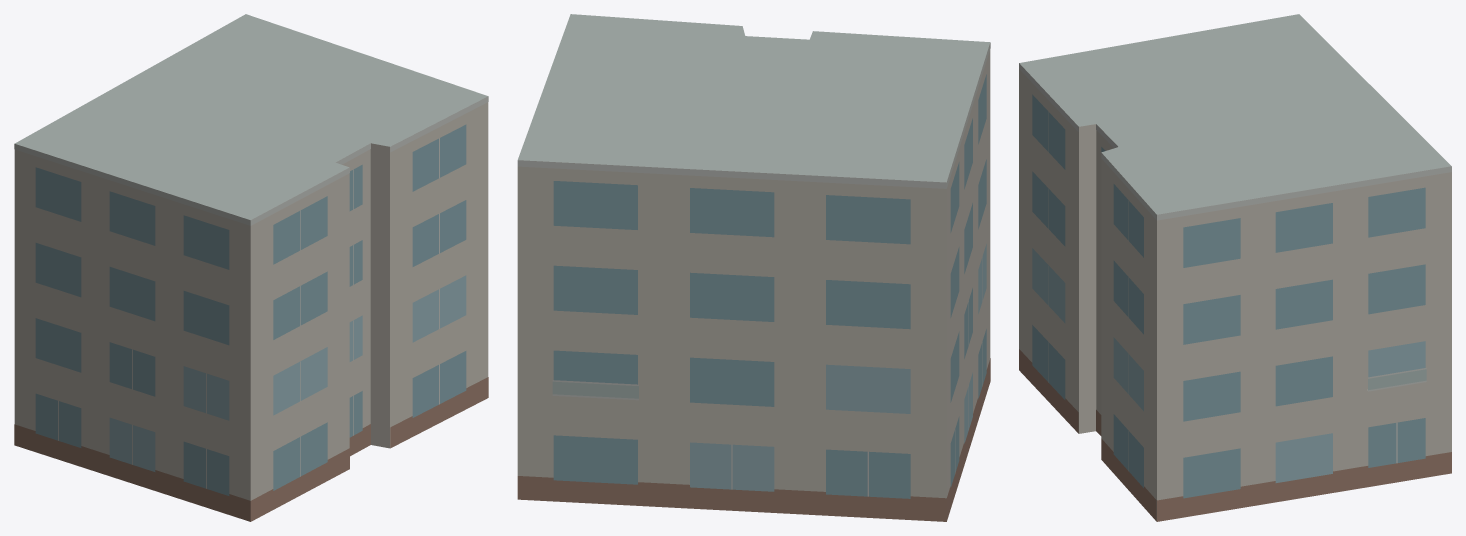
File: survey-upis-32725921.glb
The picture shows the model from 3 angles, left to right: view 1: azimuth 30°, elevation 25°; view 2: azimuth 150°, elevation 25°; view 3: azimuth 270°, elevation 25°; orthographic projection. The views are drawn at different scales.
Parts seen in each view (by area): view 1: survey-upis-32725921.tmp; view 2: survey-upis-32725921.tmp; view 3: survey-upis-32725921.tmp.
Part boxes in pixels (x1=…): survey-upis-32725921.tmp: x1=14, y1=14, x2=488, y2=521; survey-upis-32725921.tmp: x1=517, y1=14, x2=990, y2=521; survey-upis-32725921.tmp: x1=1019, y1=14, x2=1451, y2=521.
Size of the model in its own units: 18.02 by 12.85 by 16.42.
